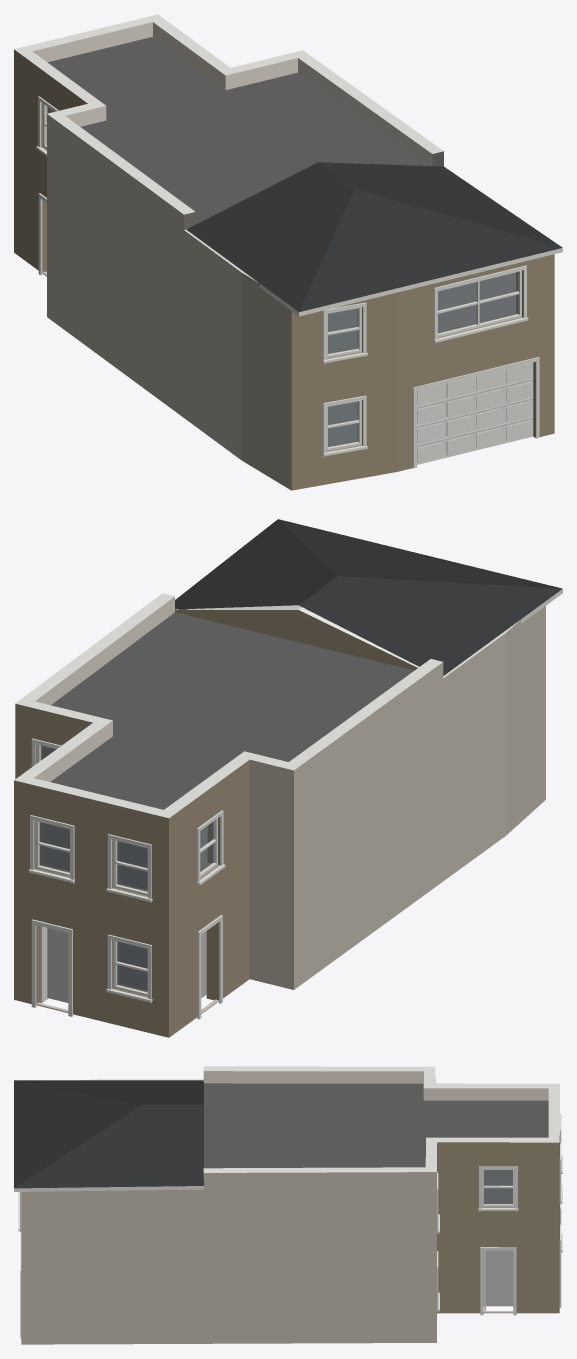
File: exterior.glb
The picture shows the model from 3 angles, top to bottom: view 1: azimuth 30°, elevation 25°; view 2: azimuth 150°, elevation 25°; view 3: azimuth 270°, elevation 25°; orthographic projection. The views are drawn at different scales.
Parts seen in each view (by area): view 1: shell, roof, doors, glazing, shadow-proxy, trim, frames; view 2: shell, roof, trim, shadow-proxy, glazing, gable, frames, doors; view 3: shell, roof, shadow-proxy, trim, glazing, doors, frames.
Boxes of the visible parts, x1=… form: shell: x1=14, y1=14, x2=554, y2=490; roof: x1=47, y1=37, x2=562, y2=316; doors: x1=42, y1=271, x2=539, y2=468; glazing: x1=47, y1=107, x2=517, y2=446; shadow-proxy: x1=53, y1=111, x2=515, y2=445; trim: x1=36, y1=96, x2=528, y2=456; frames: x1=43, y1=103, x2=521, y2=450; shell: x1=14, y1=593, x2=545, y2=1037; roof: x1=50, y1=519, x2=562, y2=809; trim: x1=28, y1=738, x2=225, y2=1019; shadow-proxy: x1=42, y1=746, x2=207, y2=1002; glazing: x1=39, y1=745, x2=213, y2=992; gable: x1=175, y1=610, x2=417, y2=670; frames: x1=35, y1=744, x2=217, y2=996; doors: x1=36, y1=926, x2=218, y2=1013; shell: x1=21, y1=1066, x2=559, y2=1344; roof: x1=14, y1=1080, x2=548, y2=1191; shadow-proxy: x1=483, y1=1170, x2=513, y2=1306; trim: x1=18, y1=1113, x2=562, y2=1315; glazing: x1=484, y1=1170, x2=512, y2=1203; doors: x1=20, y1=1232, x2=513, y2=1338; frames: x1=482, y1=1169, x2=514, y2=1207.
Size of the model in its own units: 7.79 by 6.28 by 16.54.
